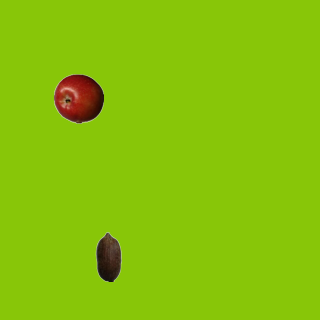Apple Braeburn: (53, 73, 103, 123)
Nut Pecan: (83, 231, 133, 281)
